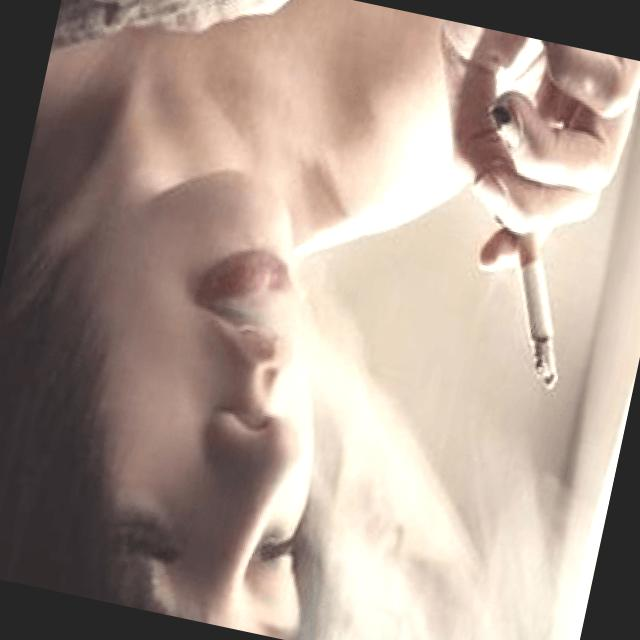cigarette: (492, 230, 586, 385)
